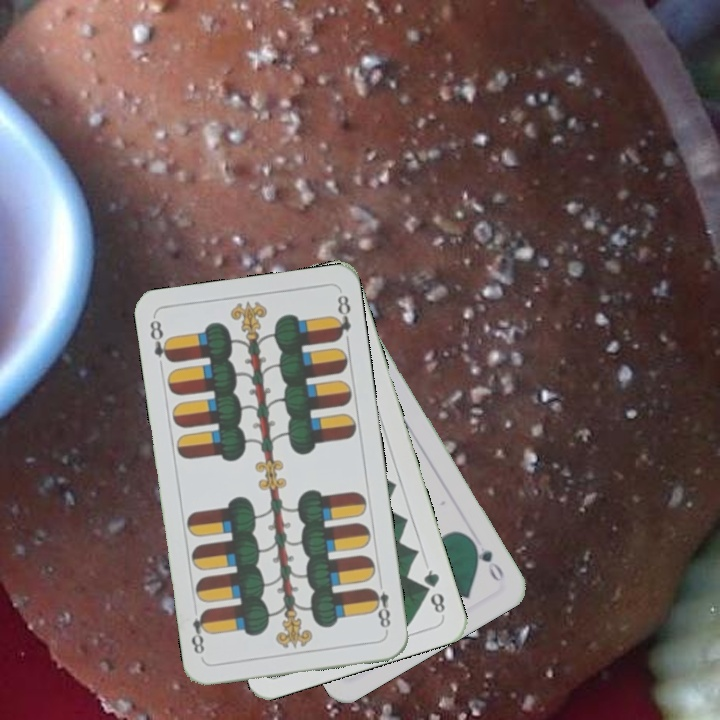E8: (367, 576, 393, 635), (145, 316, 175, 365)
G8: (419, 565, 448, 616)
GO: (466, 534, 507, 584)
